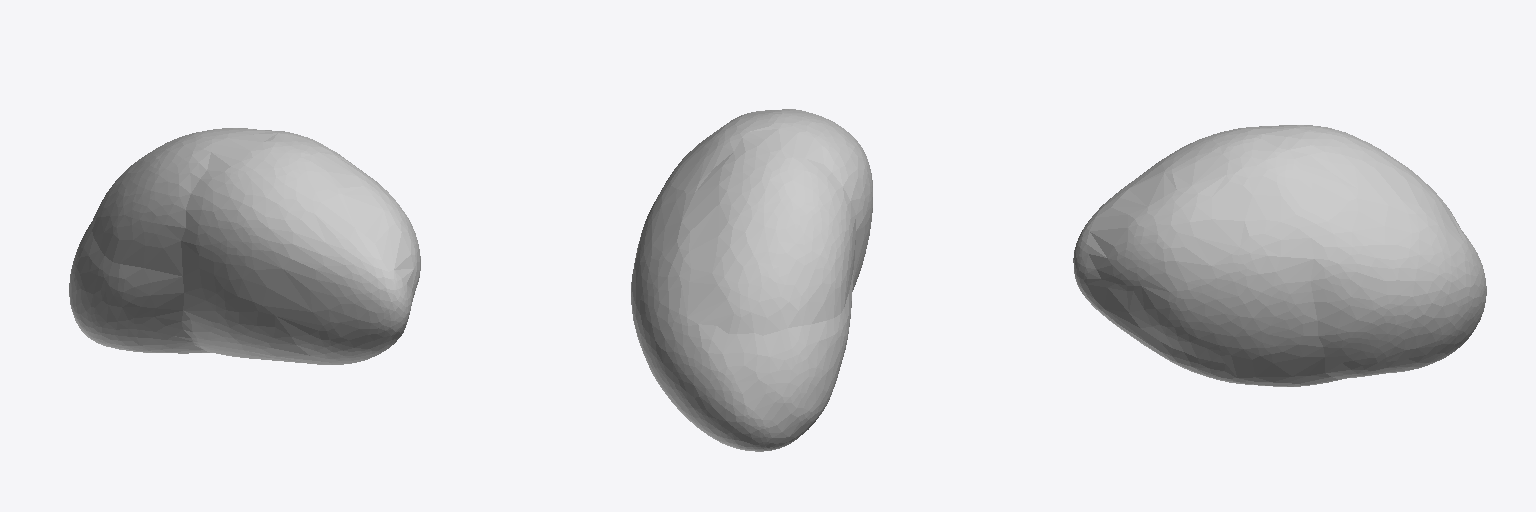
Rendered from Right_thalamus.obj.
3 renders of one model, left to right at view 1: azimuth 30°, elevation 25°; view 2: azimuth 150°, elevation 25°; view 3: azimuth 270°, elevation 25°, orthographic.
Visible parts, largest first — view 1: obj0; view 2: obj0; view 3: obj0.
Part boxes in pixels (x1,y1,x2,y2): obj0: (69,128,420,364); obj0: (631,109,872,451); obj0: (1073,125,1486,386).
Bounding box in the file's own units: 11.2 × 11.31 × 17.45.